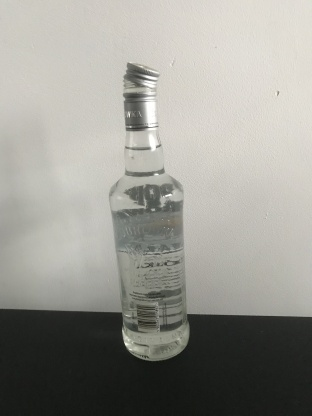nakretka: (121, 58, 161, 132)
